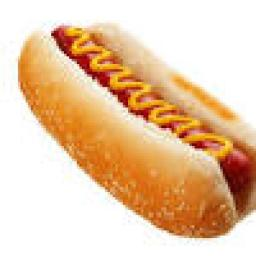hotdog: (10, 18, 256, 236)
